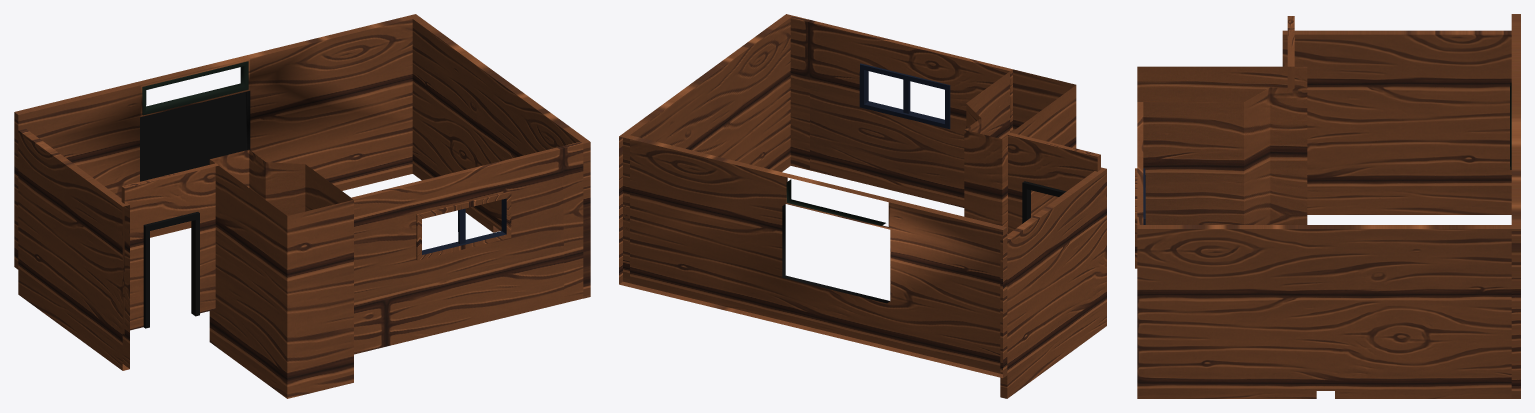
Rendered from Parede.fbx.
3 renders of one model, left to right at view 1: azimuth 30°, elevation 25°; view 2: azimuth 150°, elevation 25°; view 3: azimuth 270°, elevation 25°, orthographic. The views are drawn at different scales.
Visible parts, largest first — view 1: ParedeD, ParedeB, ParedeF, ParedeE, ParedeC, ParedePorta; view 2: ParedeD, ParedeB, ParedeE, ParedeC, ParedeF, ParedePorta; view 3: ParedeC, ParedeE, ParedeF, ParedeD, ParedeB, ParedePorta.
Part boxes in pixels (x1,y1,x2,y2): ParedeD: (14,14,419,269); ParedeB: (350,142,583,354); ParedeF: (209,149,353,398); ParedeE: (18,128,129,370); ParedeC: (412,17,590,298); ParedePorta: (121,163,219,334); ParedeD: (619,133,1007,378); ParedeB: (790,15,1012,207); ParedeE: (1000,167,1106,398); ParedeC: (623,14,792,283); ParedeF: (964,69,1076,234); ParedePorta: (1007,132,1100,233); ParedeC: (1137,225,1511,398); ParedeE: (1282,30,1511,214); ParedeF: (1137,66,1307,224); ParedeD: (1510,14,1520,398); ParedeB: (1135,102,1145,268); ParedePorta: (1287,16,1294,87).
Size of the model in its own units: 822 by 358 by 624.
